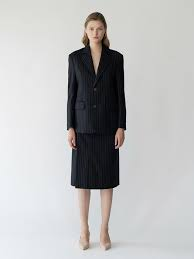F_W_suit jacket: (62, 49, 137, 140)
F_tailored skirt: (66, 117, 127, 193)
